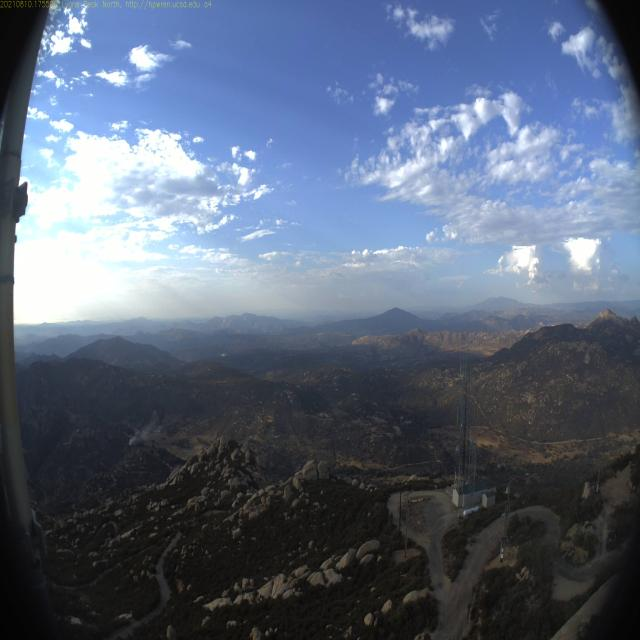smoke: (138, 408, 161, 444), (127, 431, 136, 447)
